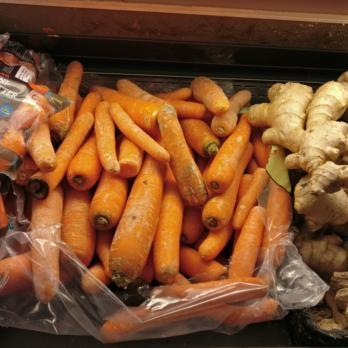Carrot: (36, 66, 247, 328), (250, 144, 293, 266)
Ginger: (262, 82, 348, 189)
